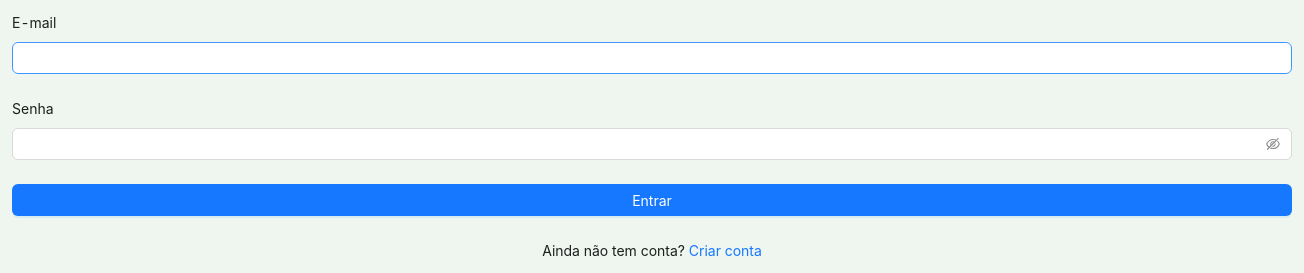
Test: LoginForm › shows validation errors before submitting
Click the button "Entrar" at (652, 200), box [12,184,1292,216]
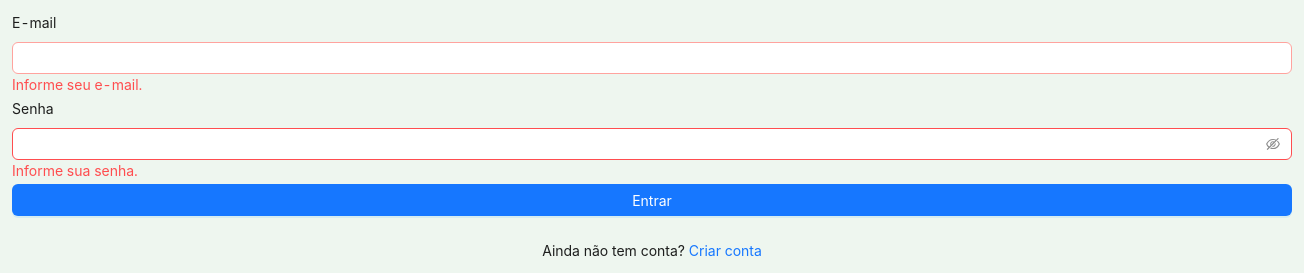
Expected: the text "Informe seu e-mail." is shown, [12,76,142,93]
Expected: the text "Informe sua senha." is shown, [12,162,138,179]
